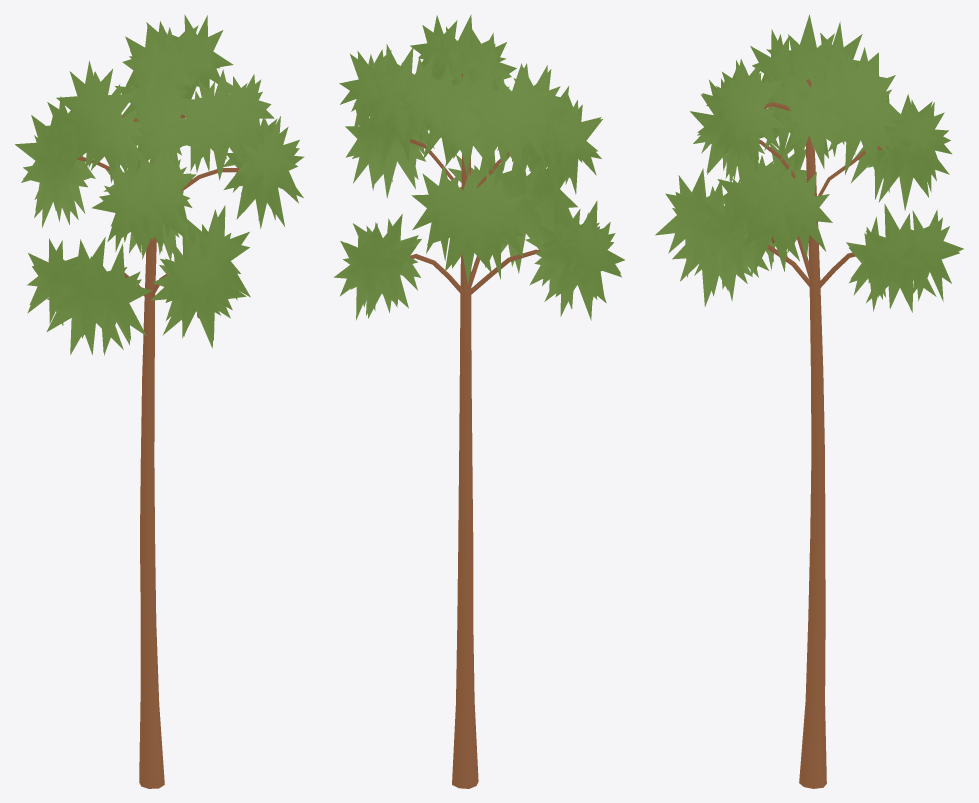
Rendered from Blender_LongleafPine_1.glb.
3 renders of one model, left to right at view 1: azimuth 30°, elevation 25°; view 2: azimuth 150°, elevation 25°; view 3: azimuth 270°, elevation 25°, orthographic.
Parts seen in each view (by area): view 1: Blender_LongleafPine_1; view 2: Blender_LongleafPine_1; view 3: Blender_LongleafPine_1.
Part boxes in pixels (x1,y1,x2,y2): Blender_LongleafPine_1: (15,14,304,788); Blender_LongleafPine_1: (333,14,624,788); Blender_LongleafPine_1: (655,14,963,788).
Size of the model in its own units: 11.73 by 30.75 by 11.55.
